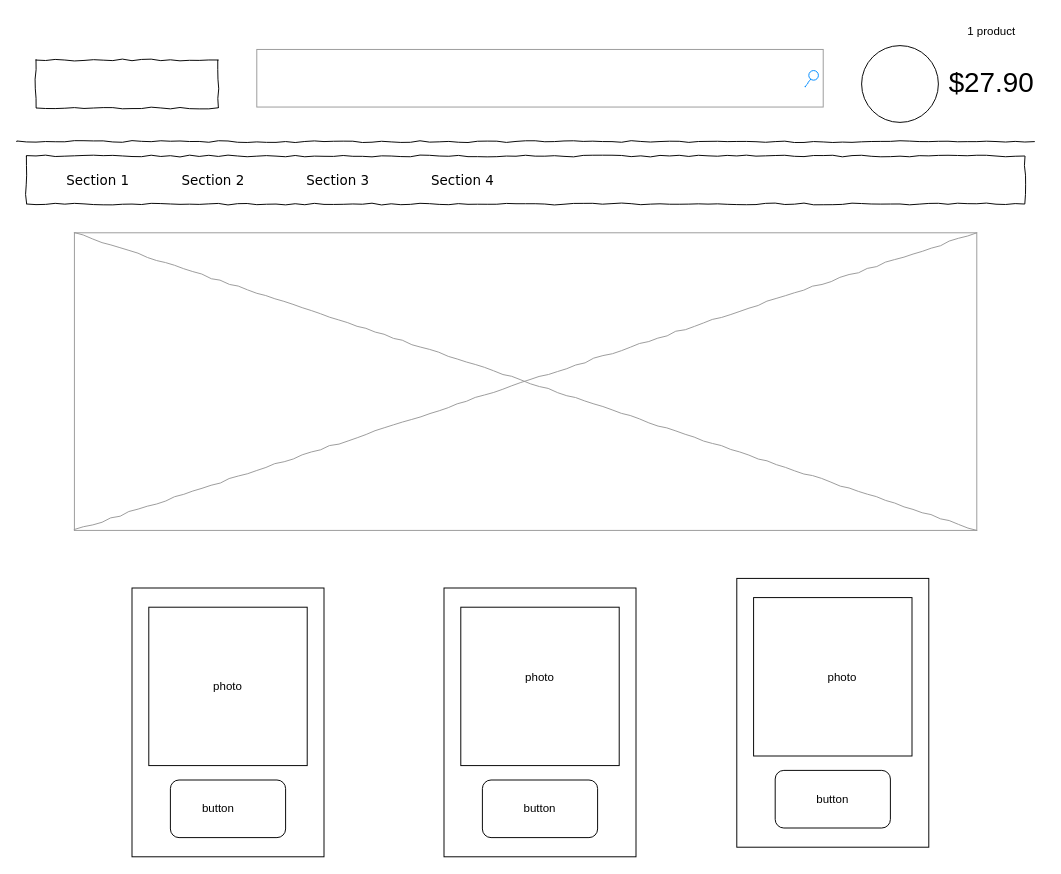
The diagram is 1061 pixels wide and 874 high, and some of its shapes have lost their labels. The shapes that lost their labels are listed below. From the top down, each one's box as (x1, y1, x2, y2) in pixels, then its label:
(35, 59, 218, 108): LOGO
(256, 48, 823, 107): Search
(73, 232, 977, 530): photos
